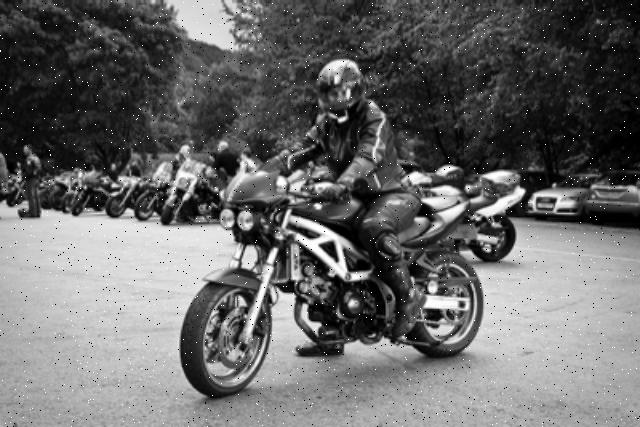With Helmet: (312, 56, 366, 124)
